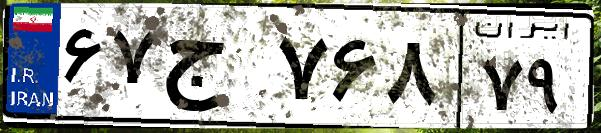6: (330, 28, 385, 110), (57, 26, 110, 100)
7: (270, 28, 330, 110), (475, 38, 525, 113), (110, 28, 158, 98)
8: (385, 28, 445, 110)
9: (525, 38, 570, 115)
ج: (158, 20, 270, 120)
